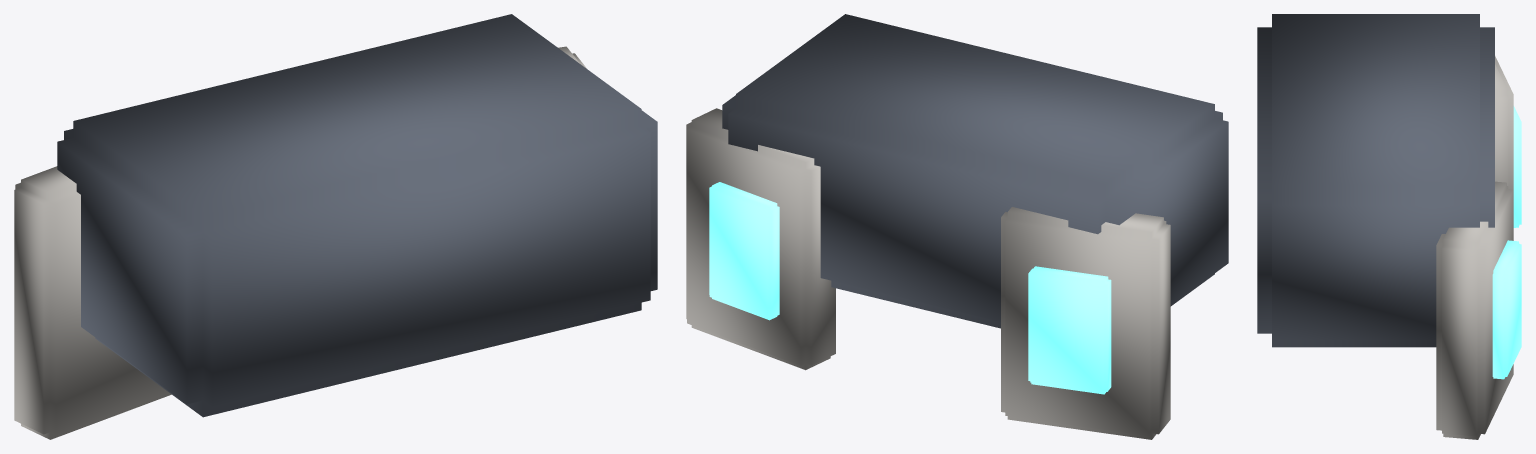
Rendered from drone_dock.glb.
3 renders of one model, left to right at view 1: azimuth 30°, elevation 25°; view 2: azimuth 150°, elevation 25°; view 3: azimuth 270°, elevation 25°, orthographic. The views are drawn at different scales.
Parts seen in each view (by area): view 1: drone_dock; view 2: drone_dock; view 3: drone_dock.
Part boxes in pixels (x1,y1,x2,y2): drone_dock: [14, 14, 657, 439]; drone_dock: [686, 14, 1228, 439]; drone_dock: [1257, 14, 1521, 439].
Size of the model in its own units: 0.524 by 0.26 by 0.2672.
